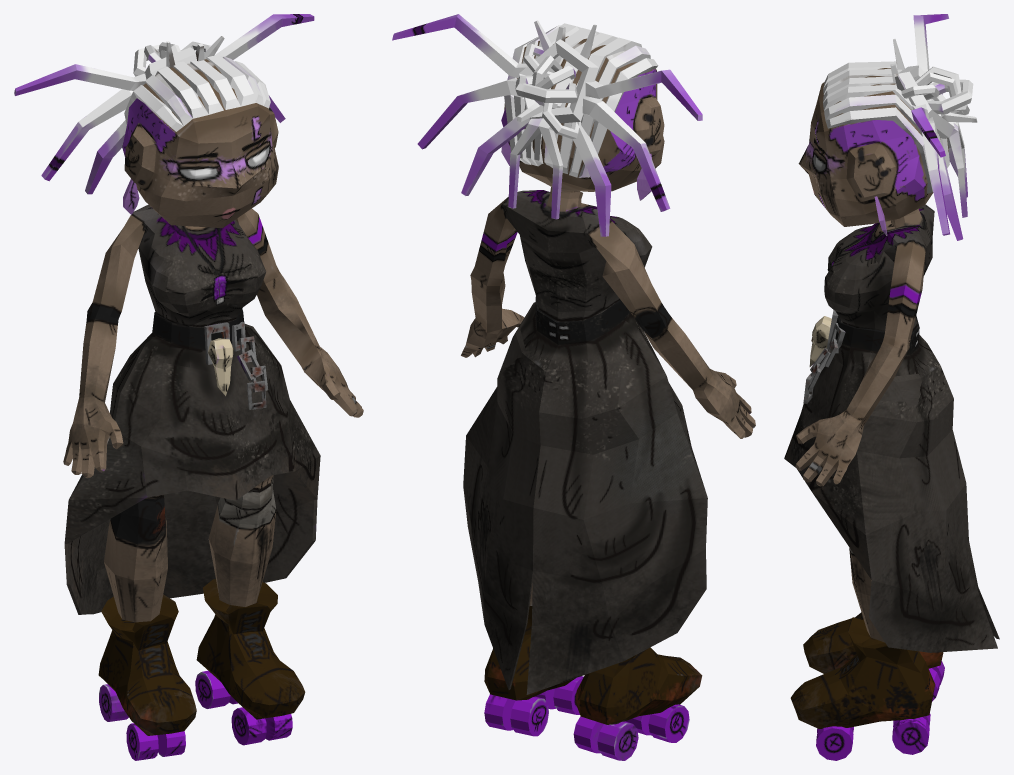
Rendered from bruja_000167.obj.
3 renders of one model, left to right at view 1: azimuth 30°, elevation 25°; view 2: azimuth 150°, elevation 25°; view 3: azimuth 270°, elevation 25°, orthographic. The views are drawn at different scales.
Visible parts, largest first — view 1: Bruja_Plane.001; view 2: Bruja_Plane.001; view 3: Bruja_Plane.001.
Boxes of the visible parts, bbox=[...] form: Bruja_Plane.001: bbox=[14, 14, 363, 760]; Bruja_Plane.001: bbox=[392, 14, 755, 760]; Bruja_Plane.001: bbox=[784, 14, 999, 760].
Bounding box in the file's own units: 7.48 × 16.62 × 4.77.
